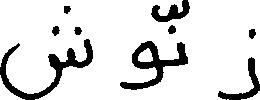X: (0, 1, 90, 99), (124, 0, 160, 94), (222, 24, 259, 99), (178, 0, 185, 70)
